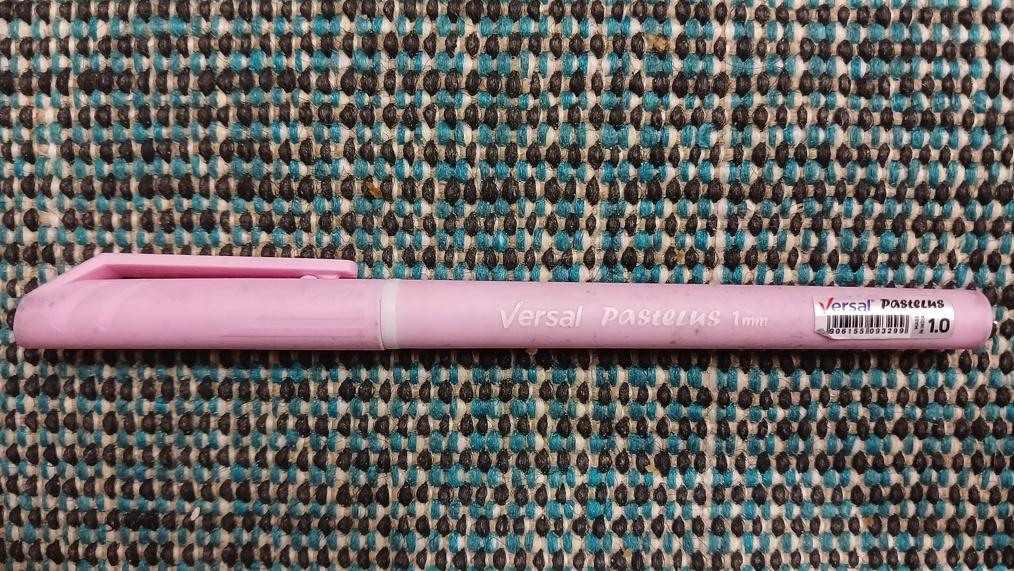pen: (0, 256, 999, 350)
